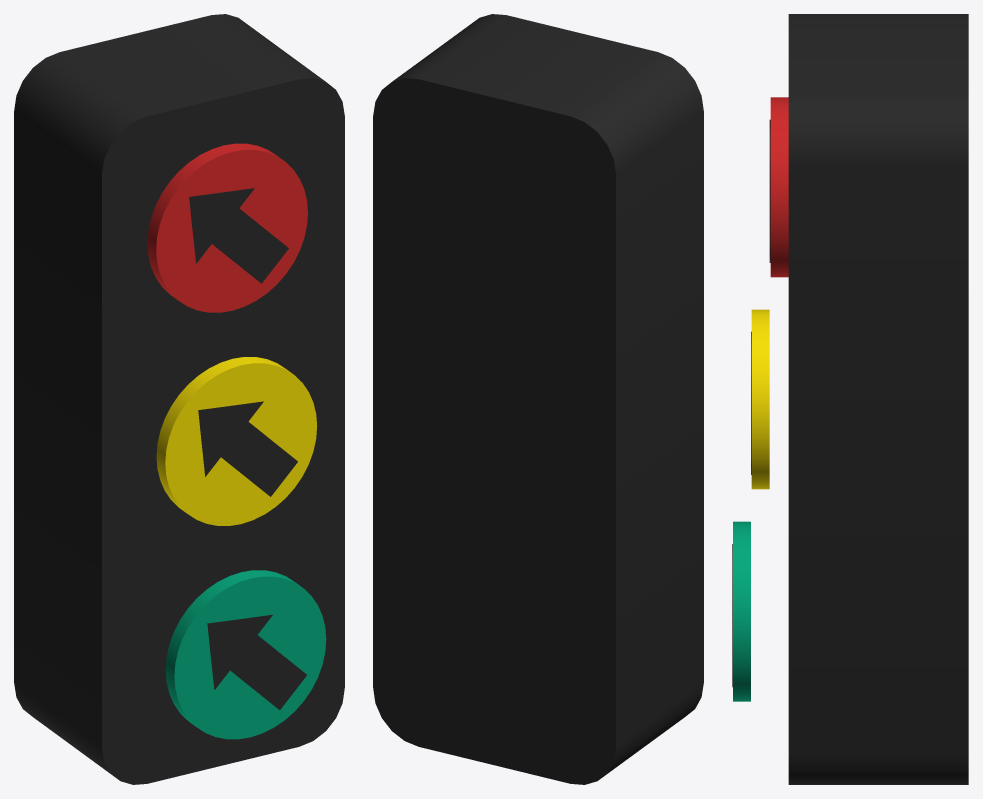
File: R16dtg.glb
The picture shows the model from 3 angles, left to right: view 1: azimuth 30°, elevation 25°; view 2: azimuth 150°, elevation 25°; view 3: azimuth 270°, elevation 25°; orthographic projection. The views are drawn at different scales.
Parts seen in each view (by area): view 1: R16dtg_r00, R16dtg_d250, R16dtg_d302, R16dtg_d276, R16dtg_s275, R16dtg_s327, R16dtg_s301; view 2: R16dtg_r00; view 3: R16dtg_r00, R16dtg_d250, R16dtg_d276, R16dtg_d302.
Boxes of the visible parts, x1,y1,x2,y2 form: R16dtg_r00: (14,14,344,784); R16dtg_d250: (147,143,307,312); R16dtg_d302: (165,570,326,739); R16dtg_d276: (156,357,316,525); R16dtg_s275: (189,188,288,283); R16dtg_s327: (207,615,306,709); R16dtg_s301: (198,401,297,496); R16dtg_r00: (373,14,703,784); R16dtg_r00: (788,14,968,784); R16dtg_d250: (770,97,788,277); R16dtg_d276: (751,309,769,489); R16dtg_d302: (733,521,750,701).
Bounding box in the file's own units: 0.16 × 0.42 × 0.1312.
